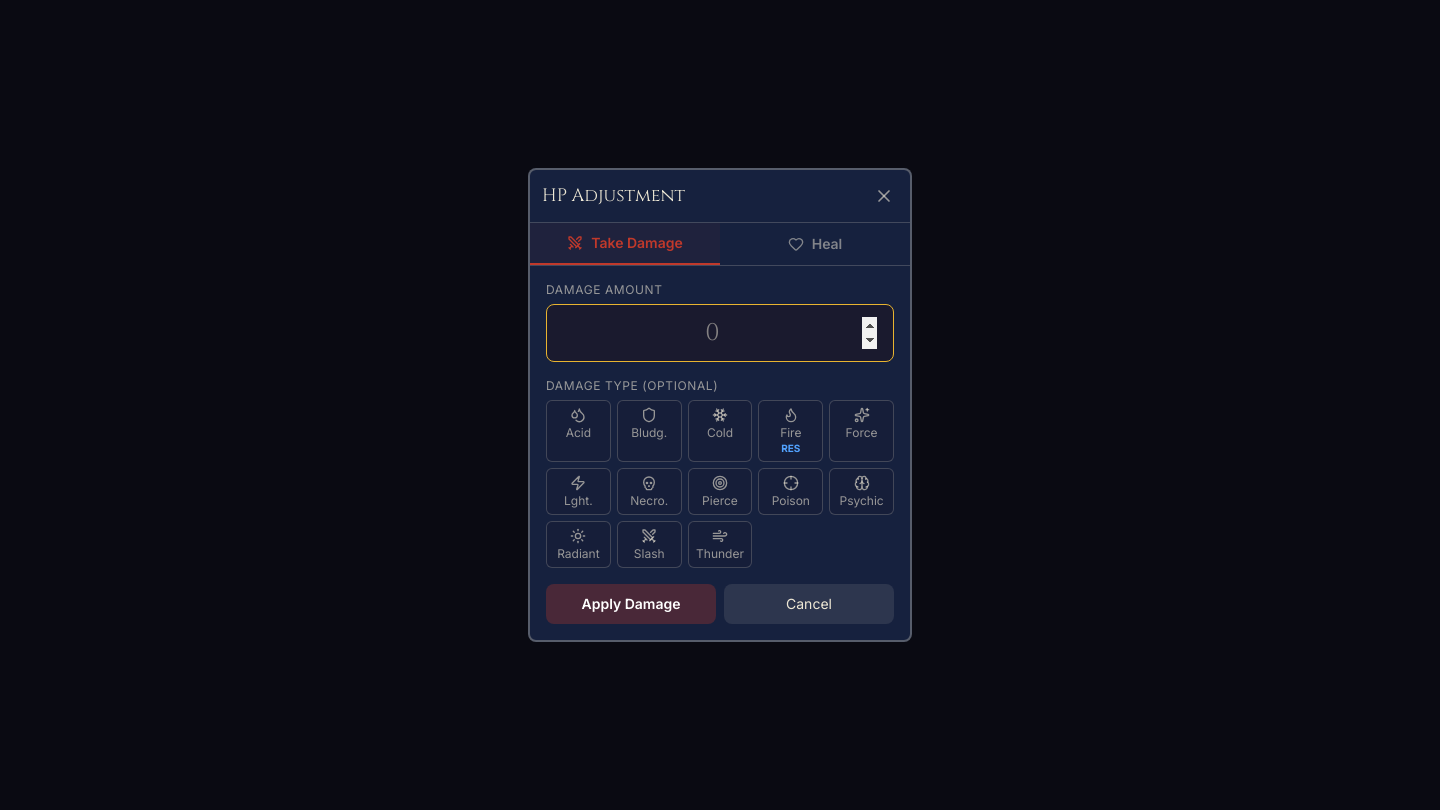
Test: DamageHealModal › should show resistance text when damage type matches resistance
Type "10" into the number field with test id "hp-amount-input". click: (720, 333)
box: [546,304,894,362]
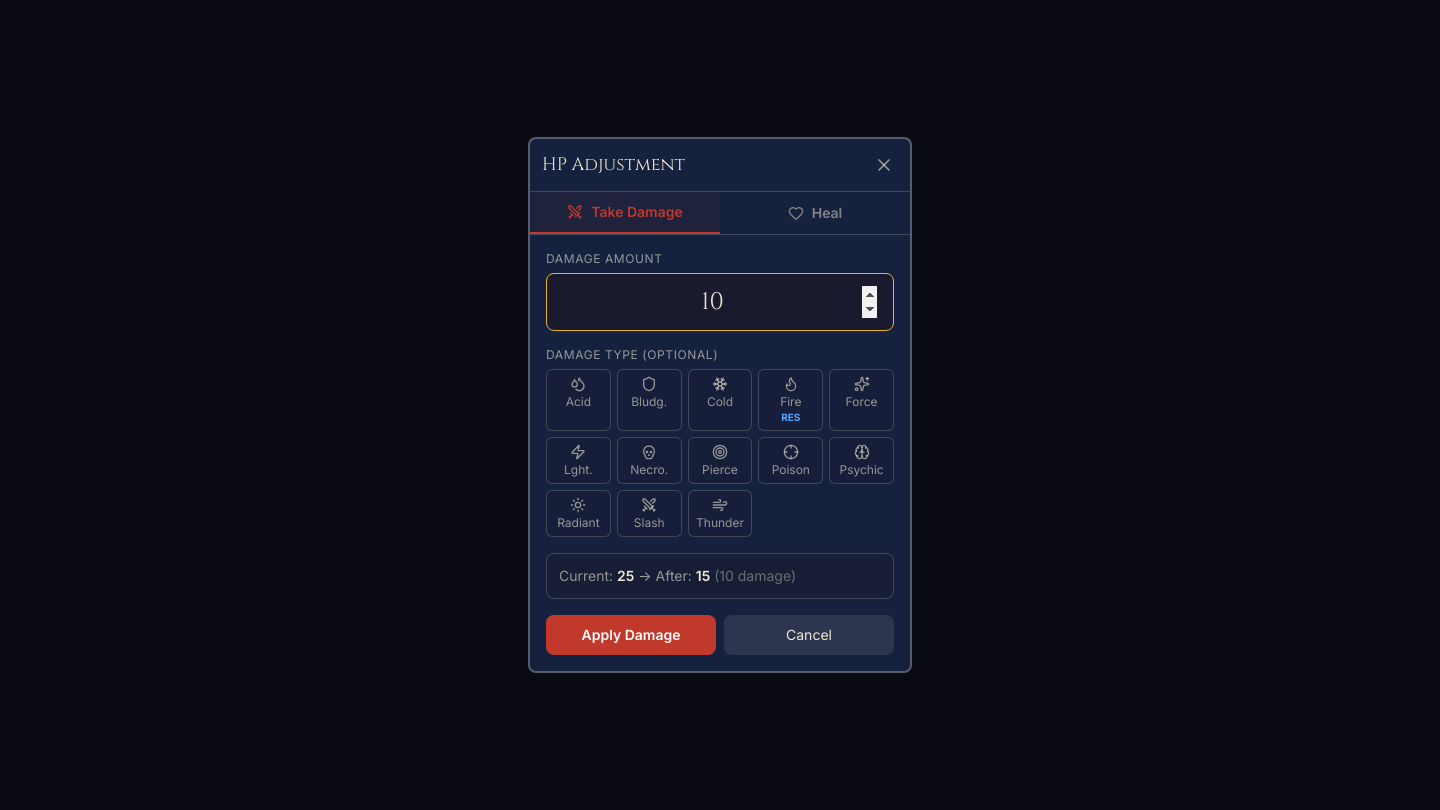
Click the button with test id "damage-type-fire". click: (791, 400)
box: [758,369,823,431]
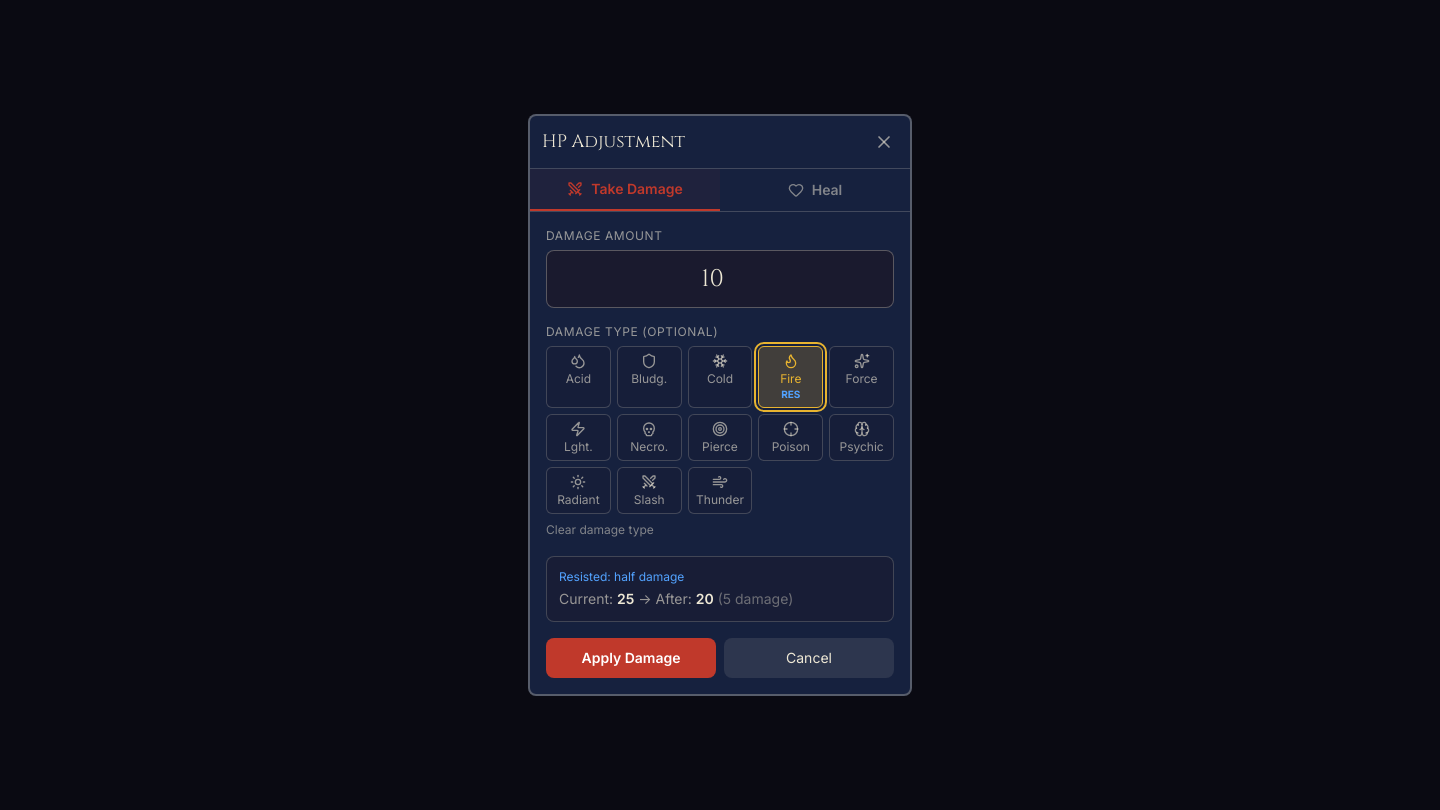
Check: the text with test id "damage-relation-text" reads "Resisted: half damage", box [559,569,684,584]
